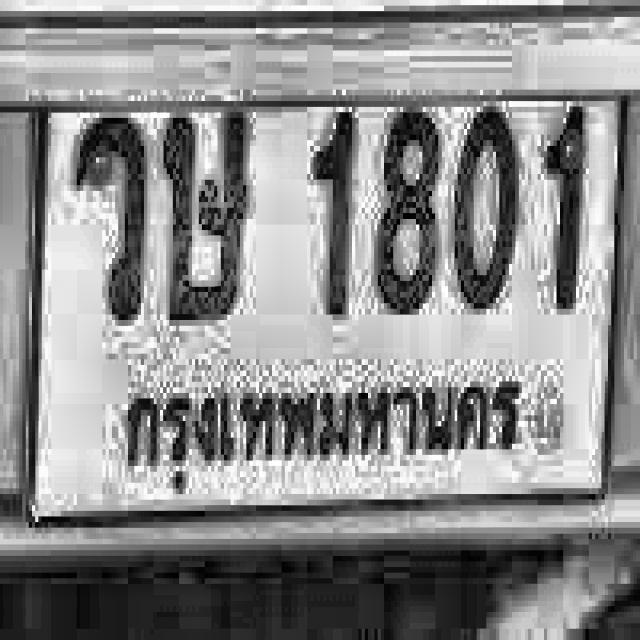license-plate: (23, 71, 627, 565)
